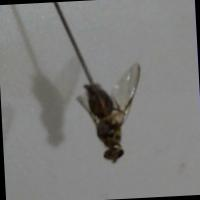Oriental-fruit-fly: (68, 60, 150, 168)
